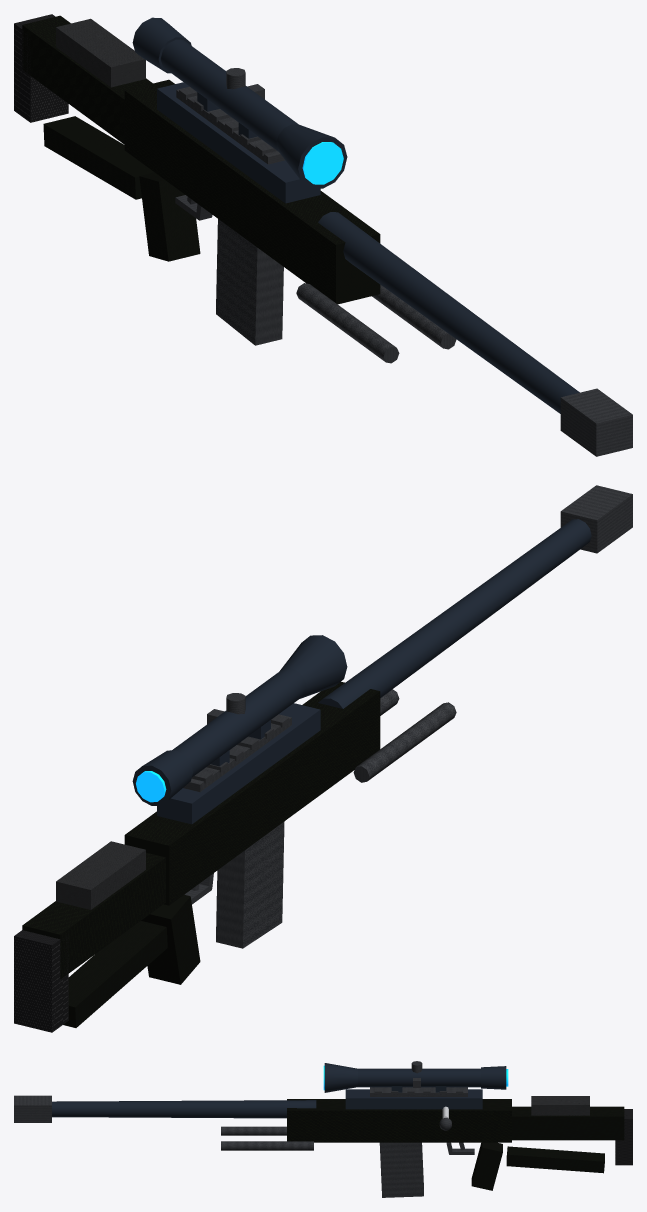
Rendered from awm.glb.
The picture shows the model from 3 angles, top to bottom: view 1: azimuth 30°, elevation 25°; view 2: azimuth 150°, elevation 25°; view 3: azimuth 270°, elevation 25°; orthographic projection. The views are drawn at different scales.
Parts seen in each view (by area): view 1: weapon_awm, MagazineNode; view 2: weapon_awm, MagazineNode; view 3: weapon_awm, MagazineNode, BoltHandleNode.
Part boxes in pixels (x1,y1,x2,y2): weapon_awm: [14, 14, 632, 456]; MagazineNode: [216, 219, 283, 345]; weapon_awm: [14, 485, 632, 1032]; MagazineNode: [216, 821, 284, 948]; weapon_awm: [14, 1061, 632, 1190]; MagazineNode: [379, 1142, 423, 1197]; BoltHandleNode: [439, 1106, 451, 1130].
Size of the model in its own units: 0.1355 by 0.2962 by 1.27.
Materials: 7 (5 with a texture image).
